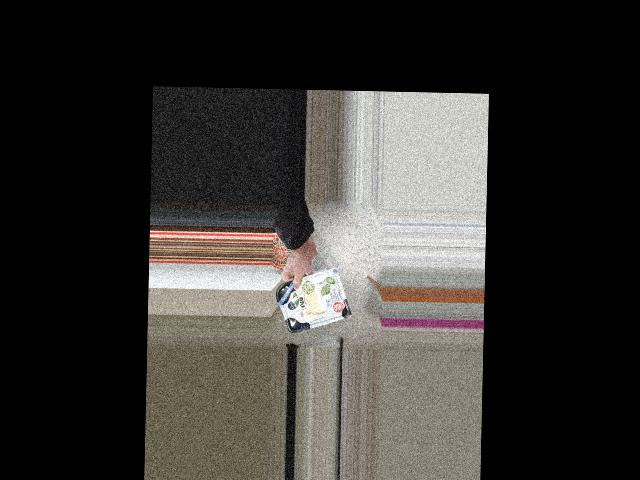cheese: (281, 276, 343, 325)
